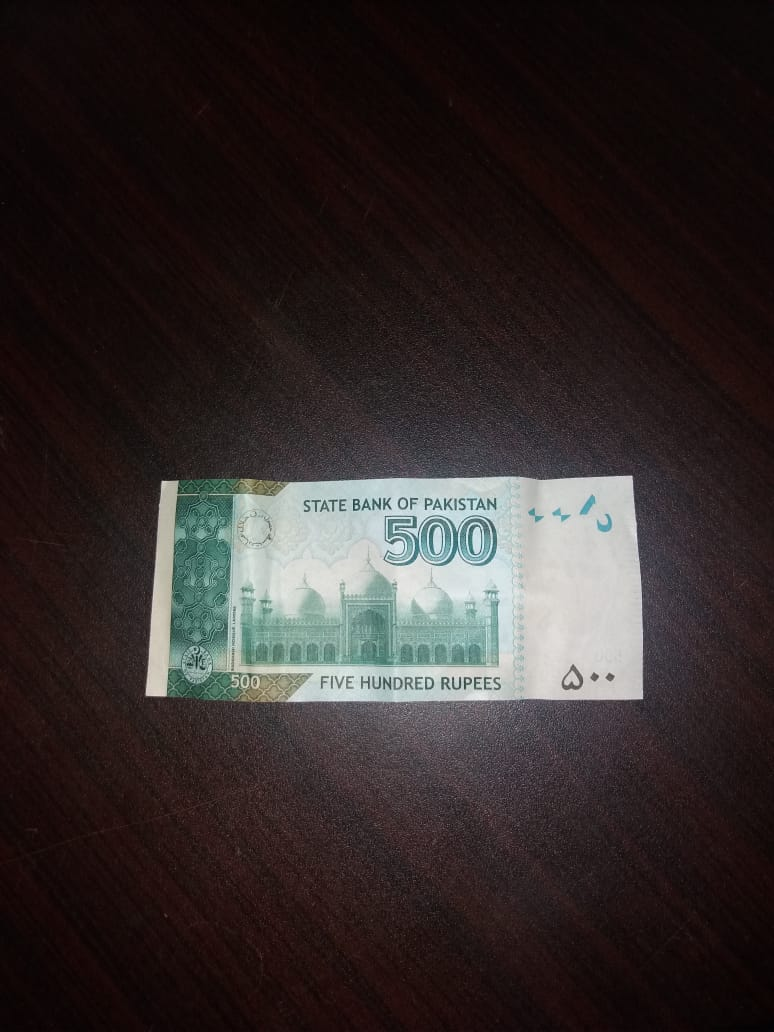500 rupee: (137, 448, 664, 744)
